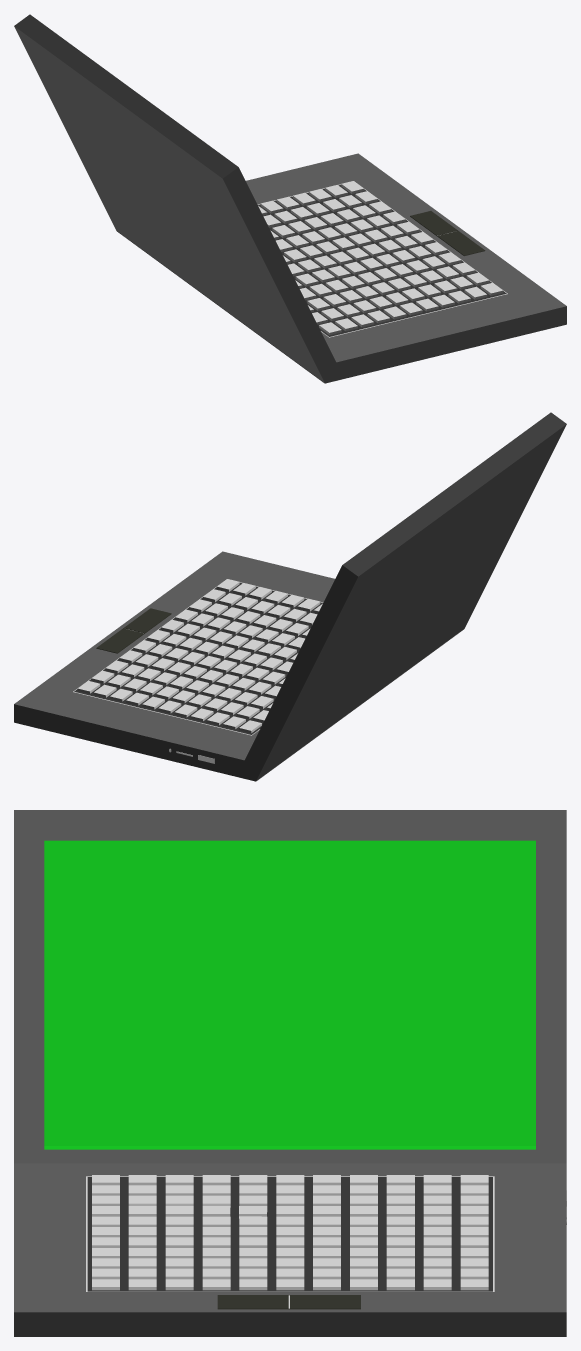
The model's file is Laptop.fbx.
3 renders of one model, top to bottom at view 1: azimuth 30°, elevation 25°; view 2: azimuth 150°, elevation 25°; view 3: azimuth 270°, elevation 25°, orthographic. The views are drawn at different scales.
Parts seen in each view (by area): view 1: LAPTOP, TOUCHPAD; view 2: LAPTOP, TOUCHPAD; view 3: LAPTOP, TOUCHPAD.
Part boxes in pixels (<box>): LAPTOP: <box>14,14,566,383</box>; TOUCHPAD: <box>410,211,485,255</box>; LAPTOP: <box>14,412,566,781</box>; TOUCHPAD: <box>96,608,171,653</box>; LAPTOP: <box>14,810,566,1336</box>; TOUCHPAD: <box>217,1295,360,1309</box>.
Bounding box in the file's own units: 58.65 × 38.68 × 61.61.
